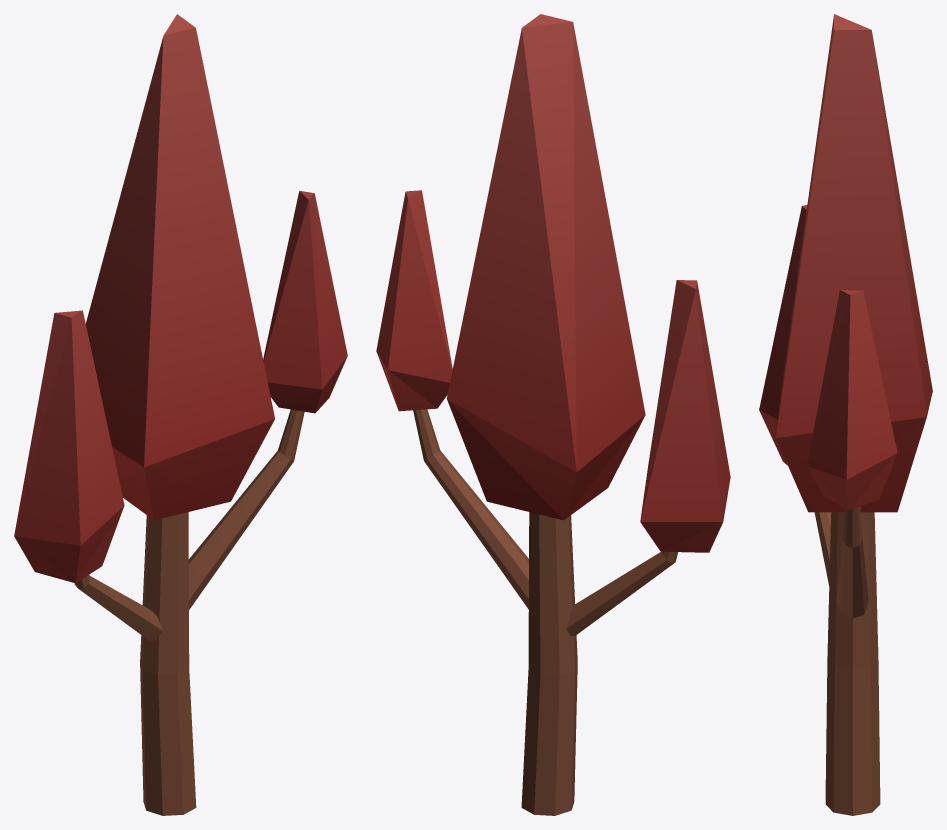
File: Tree_50_gradient_red_vc.fbx
3 renders of one model, left to right at view 1: azimuth 30°, elevation 25°; view 2: azimuth 150°, elevation 25°; view 3: azimuth 270°, elevation 25°, orthographic.
Visible parts, largest first — view 1: Tree_50_gradient_red_vc; view 2: Tree_50_gradient_red_vc; view 3: Tree_50_gradient_red_vc.
Part boxes in pixels (bbox=[...]): Tree_50_gradient_red_vc: bbox=[14, 14, 347, 815]; Tree_50_gradient_red_vc: bbox=[376, 14, 730, 815]; Tree_50_gradient_red_vc: bbox=[759, 14, 932, 815].
Size of the model in its own units: 118 by 259 by 52.22.
